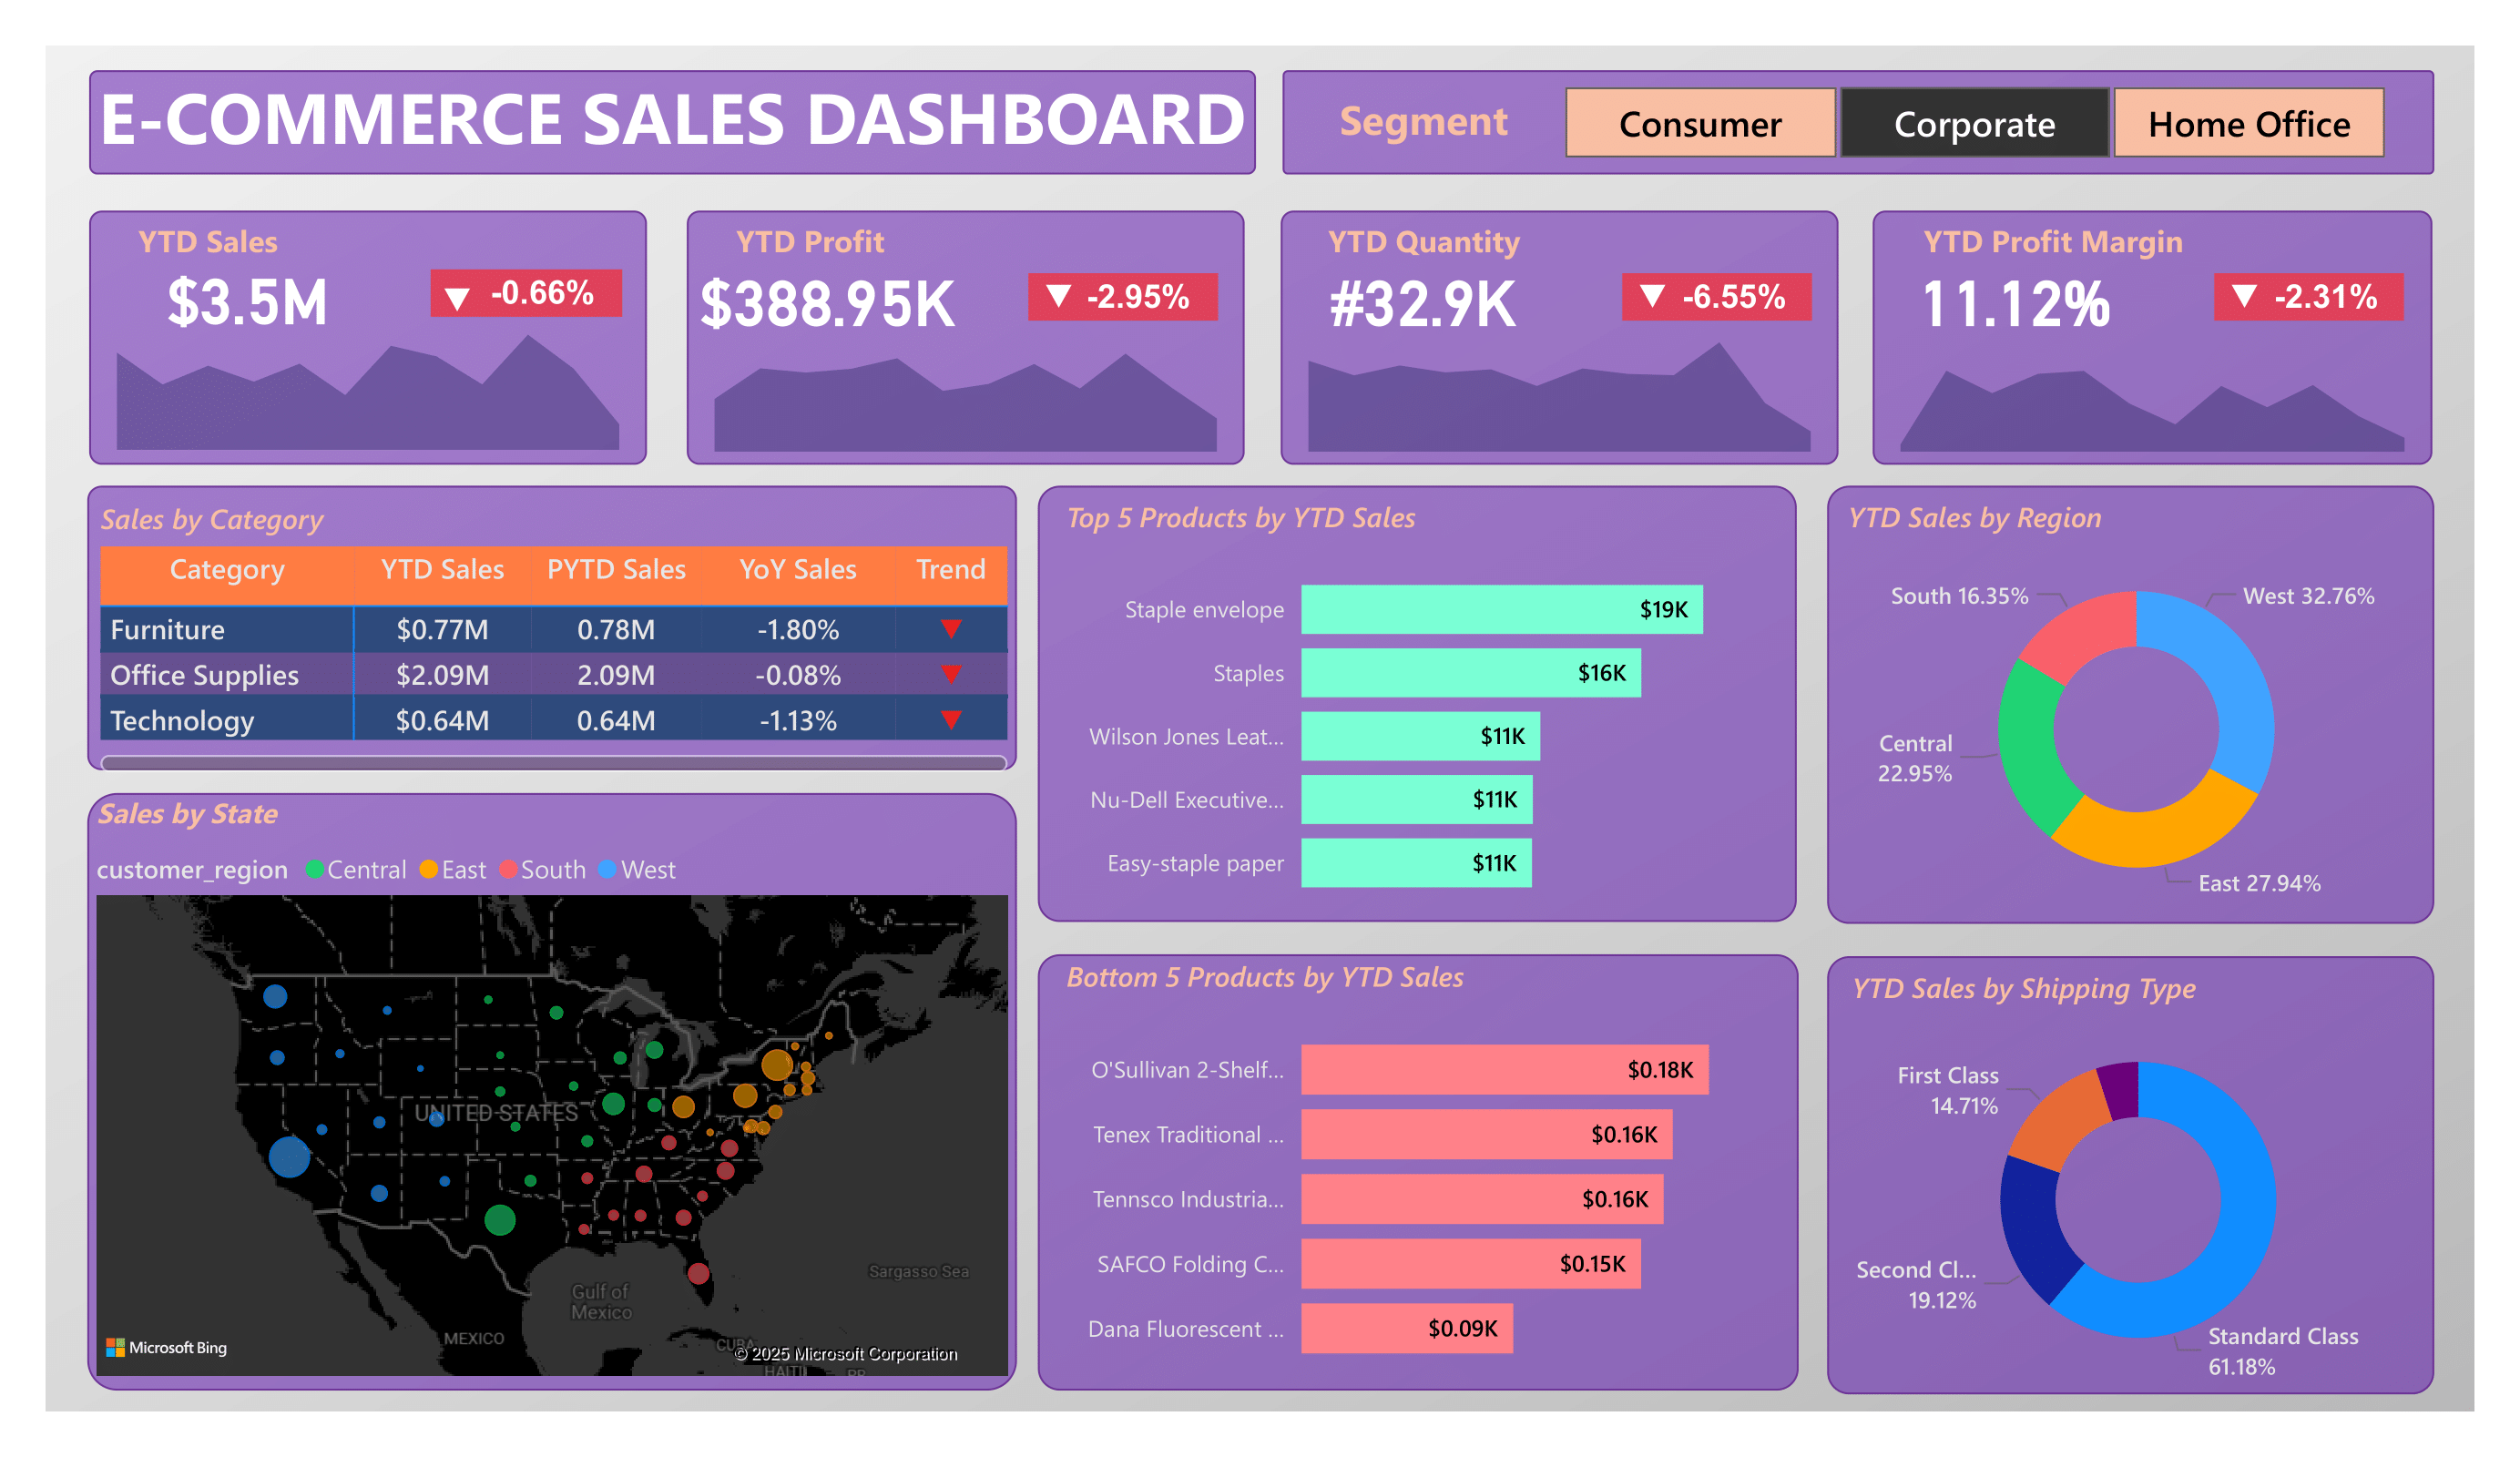

The page's visual inventory and layout, read from the dashboard file:
{"tool":"powerbi","page":{"name":"Page 1","canvas":[1280,720],"ordinal":0},"visuals":[{"type":"shape","box":[22.9,12.7,615,55],"z":0},{"type":"textbox","box":[23.4,6.7,626.7,62],"z":1000},{"type":"shape","box":[22.9,87.5,294.3,133.6],"z":2000},{"type":"card","fields":{"Values":["ecommerce_data.YTD Sales"]},"box":[32.1,105.8,149.3,52.9],"z":3000},{"type":"areaChart","fields":{"Category":["Calendar.Month"],"Y":["Sum(ecommerce_data.sales_per_order)"]},"box":[22.9,132,294.3,85.9],"z":4000},{"type":"shape","box":[203.3,117.9,100.2,25.4],"z":5000},{"type":"card","fields":{"Values":["ecommerce_data.YoY Sales"]},"box":[227.2,117.9,70,27],"z":6000},{"type":"card","fields":{"Values":["ecommerce_data.Sales Icon"]},"box":[202,120.9,30.2,28.6],"z":7000},{"type":"textbox","box":[44.3,86.8,95.4,38.2],"z":8000},{"type":"shape","box":[337.8,87.5,294.3,133.6],"z":9000},{"type":"card","fields":{"Values":["ecommerce_data.YTD Profit"]},"box":[338.3,107.1,147.9,52.5],"z":10000},{"type":"areaChart","fields":{"Category":["Calendar.Month"],"Y":["Sum(ecommerce_data.profit_per_order)"]},"box":[337.9,133.2,294.3,85.9],"z":11000},{"type":"shape","box":[517.5,119.7,100.2,25.4],"z":12000},{"type":"card","fields":{"Values":["ecommerce_data.YoY Profit"]},"box":[541.4,119.7,70,27],"z":13000},{"type":"card","fields":{"Values":["ecommerce_data.Profit Icon"]},"box":[518.5,119.3,30.2,28.6],"z":14000},{"type":"textbox","box":[358.6,87,100.2,38.2],"z":15000},{"type":"shape","box":[651.2,87.5,294.3,133.6],"z":16000},{"type":"card","fields":{"Values":["ecommerce_data.YTD Concatenated Qty"]},"box":[651.7,107.1,147.9,52.5],"z":17000},{"type":"areaChart","fields":{"Category":["Calendar.Month"],"Y":["Sum(ecommerce_data.order_quantity)"]},"box":[651.2,133.2,294.3,85.9],"z":18000},{"type":"shape","box":[830.9,119.7,100.2,25.4],"z":19000},{"type":"card","fields":{"Values":["ecommerce_data.YoY Qty"]},"box":[854.8,119.7,70,27],"z":20000},{"type":"card","fields":{"Values":["ecommerce_data.Qty Icon"]},"box":[831.9,119.3,30.2,28.6],"z":21000},{"type":"textbox","box":[671.2,87.5,128.8,38.2],"z":22000},{"type":"shape","box":[963.3,87.5,294.3,133.6],"z":23000},{"type":"card","fields":{"Values":["ecommerce_data.YTD Profit Margin"]},"box":[963.8,107.1,147.9,52.5],"z":24000},{"type":"areaChart","fields":{"Category":["Calendar.Month"],"Y":["ecommerce_data.Profit Margin"]},"box":[963.4,133.2,294.3,85.9],"z":25000},{"type":"shape","box":[1143.1,119.7,100.2,25.4],"z":26000},{"type":"card","fields":{"Values":["ecommerce_data.YoY Profit Margin"]},"box":[1166.9,119.7,70,27],"z":27000},{"type":"card","fields":{"Values":["ecommerce_data.Profit Margin Icon"]},"box":[1143.6,119.3,30.2,28.6],"z":28000},{"type":"textbox","box":[984.6,87.5,159.1,38.2],"z":29000},{"type":"shape","box":[22.3,232.2,490,150],"z":30000},{"type":"pivotTable","title":"Sales by Category","fields":{"Rows":["ecommerce_data.category_name"],"Values":["ecommerce_data.YTD Sales","ecommerce_data.PYTD Sales","ecommerce_data.YoY Sales","ecommerce_data.Sales Icon"]},"box":[23.9,238.6,488.3,149.5],"z":31000},{"type":"shape","box":[22.3,394.5,489.9,314.9],"z":32000},{"type":"map","title":"Sales by State","fields":{"Y":["us_state_long_lat_codes.latitude"],"X":["us_state_long_lat_codes.longitude"],"Size":["ecommerce_data.YTD Sales"],"Series":["ecommerce_data.customer_region"]},"box":[22.3,394.5,489.9,311.8],"z":33000},{"type":"shape","box":[523.3,232.2,400,230],"z":34000},{"type":"shape","box":[523.3,478.8,400.8,230],"z":35000},{"type":"barChart","title":"Top 5 Products by YTD Sales","fields":{"Category":["ecommerce_data.product_name"],"Y":["ecommerce_data.YTD Sales"]},"box":[532.9,238.1,389.3,224.9],"z":36000},{"type":"barChart","title":"Bottom 5 Products by YTD Sales","fields":{"Category":["ecommerce_data.product_name"],"Y":["ecommerce_data.YTD Sales"]},"box":[532.9,480,389.3,228.7],"z":37000},{"type":"shape","box":[939.2,232.4,319.4,230.6],"z":38000},{"type":"shape","box":[939.2,480,319.4,230.6],"z":39000},{"type":"donutChart","title":"YTD Sales by Region","fields":{"Category":["ecommerce_data.customer_region"],"Y":["ecommerce_data.YTD Sales"]},"box":[944.9,238.1,313.7,224.9],"z":40000},{"type":"donutChart","title":"YTD Sales by Shipping Type","fields":{"Y":["ecommerce_data.YTD Sales"],"Category":["ecommerce_data.shipping_type"]},"box":[946.8,485.7,311.8,224.9],"z":41000},{"type":"shape","box":[652,13.2,606.6,54.8],"z":42000},{"type":"slicer","fields":{"Values":["ecommerce_data.customer_segment"]},"box":[774.8,15.1,481.9,51],"z":43000},{"type":"textbox","box":[676.5,18.9,111.5,45.4],"z":44000}]}

Visuals, with their boxes in screenshot pixels (x1, y1, x2, y2):
shape: [89, 70, 1240, 173]
textbox: [90, 58, 1263, 175]
shape: [89, 209, 640, 460]
card - ecommerce_data.YTD Sales: [106, 244, 385, 343]
areaChart - Calendar.Month x Sum(ecommerce_data.sales_per_order): [89, 293, 640, 453]
shape: [426, 267, 615, 314]
card - ecommerce_data.YoY Sales: [472, 267, 603, 317]
card - ecommerce_data.Sales Icon: [424, 272, 481, 326]
textbox: [129, 209, 308, 280]
shape: [678, 209, 1229, 460]
card - ecommerce_data.YTD Profit: [679, 247, 956, 345]
areaChart - Calendar.Month x Sum(ecommerce_data.profit_per_order): [678, 295, 1229, 456]
shape: [1015, 270, 1203, 318]
card - ecommerce_data.YoY Profit: [1060, 270, 1191, 321]
card - ecommerce_data.Profit Icon: [1017, 270, 1074, 323]
textbox: [718, 209, 905, 280]
shape: [1265, 209, 1817, 460]
card - ecommerce_data.YTD Concatenated Qty: [1267, 247, 1544, 345]
areaChart - Calendar.Month x Sum(ecommerce_data.order_quantity): [1265, 295, 1817, 456]
shape: [1602, 270, 1790, 318]
card - ecommerce_data.YoY Qty: [1647, 270, 1778, 321]
card - ecommerce_data.Qty Icon: [1604, 270, 1660, 323]
textbox: [1303, 209, 1544, 281]
shape: [1850, 209, 2401, 460]
card - ecommerce_data.YTD Profit Margin: [1851, 247, 2127, 345]
areaChart - Calendar.Month x ecommerce_data.Profit Margin: [1850, 295, 2402, 456]
shape: [2187, 270, 2374, 318]
card - ecommerce_data.YoY Profit Margin: [2231, 270, 2362, 321]
card - ecommerce_data.Profit Margin Icon: [2188, 270, 2244, 323]
textbox: [1890, 209, 2188, 281]
shape: [87, 481, 1005, 761]
"Sales by Category" pivotTable: [91, 493, 1005, 772]
shape: [87, 785, 1005, 1374]
"Sales by State" map: [87, 785, 1005, 1369]
shape: [1025, 481, 1775, 912]
shape: [1025, 942, 1777, 1373]
"Top 5 Products by YTD Sales" barChart: [1044, 492, 1773, 912]
"Bottom 5 Products by YTD Sales" barChart: [1044, 944, 1773, 1373]
shape: [1805, 481, 2403, 912]
shape: [1805, 944, 2403, 1377]
"YTD Sales by Region" donutChart: [1815, 492, 2403, 912]
"YTD Sales by Shipping Type" donutChart: [1819, 955, 2403, 1377]
shape: [1267, 71, 2403, 173]
slicer - ecommerce_data.customer_segment: [1497, 74, 2400, 169]
textbox: [1312, 81, 1522, 167]
